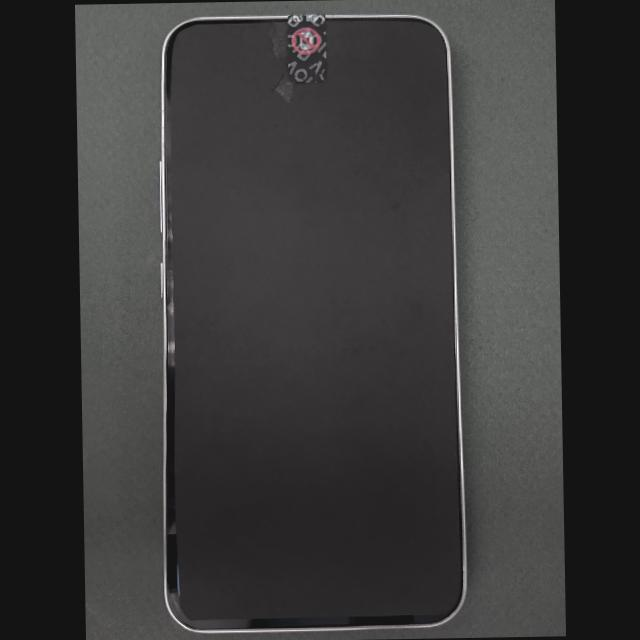phone: (159, 14, 466, 632)
sticker: (284, 13, 328, 85)
